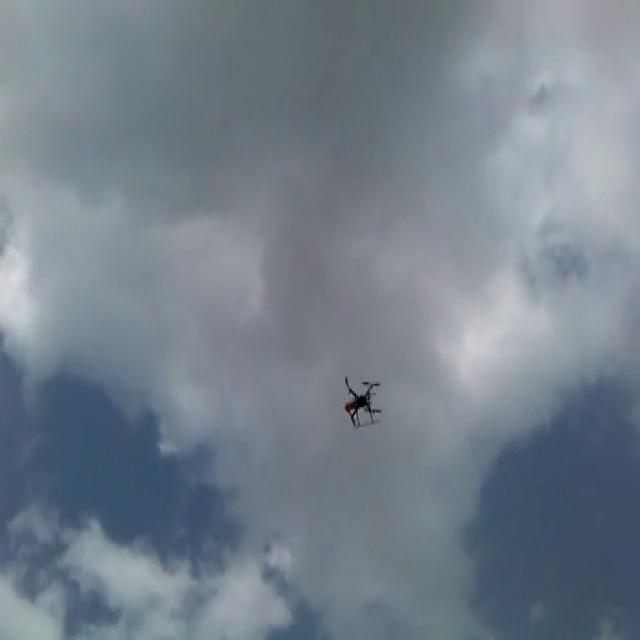drone: (341, 372, 382, 430)
